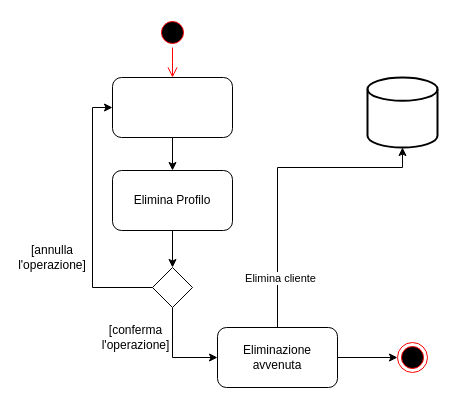
Some shapes in this 455 by 405 pixel diagram are drawn without their labels. Each missing label, with the centre of its shape:
"Database clienti" goes at point 402,112.
"Mostra Profilo Cliente" goes at point 172,107.
